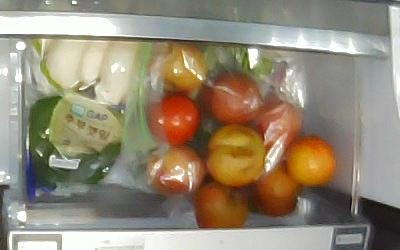prune: (205, 126, 266, 185), (204, 71, 263, 132), (143, 45, 209, 99), (247, 99, 304, 154), (145, 145, 206, 196), (144, 93, 199, 148), (247, 164, 304, 216), (287, 135, 339, 190), (193, 176, 248, 228)
